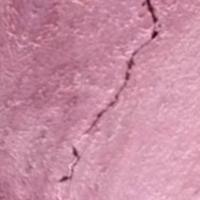crack: (57, 0, 163, 182)
